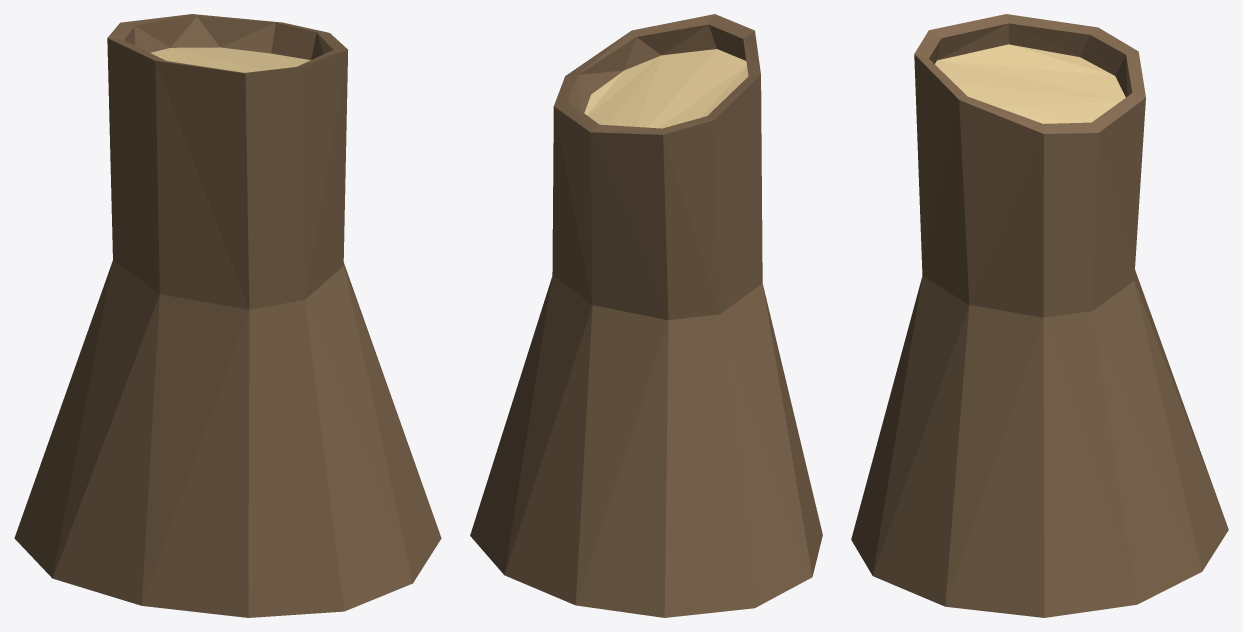
Rendered from SM_Tree_5.fbx.
3 views of the same model, side by side, from view 1: azimuth 30°, elevation 25°; view 2: azimuth 150°, elevation 25°; view 3: azimuth 270°, elevation 25° (orthographic). The views are drawn at different scales.
Visible parts, largest first — view 1: SM_Tree_5_LOD0; view 2: SM_Tree_5_LOD0; view 3: SM_Tree_5_LOD0.
Part boxes in pixels (bbox=[...]): SM_Tree_5_LOD0: bbox=[14, 14, 441, 617]; SM_Tree_5_LOD0: bbox=[470, 14, 822, 617]; SM_Tree_5_LOD0: bbox=[851, 14, 1228, 617].
Size of the model in its own units: 105 by 103 by 146.
1 material, 1 textured.
